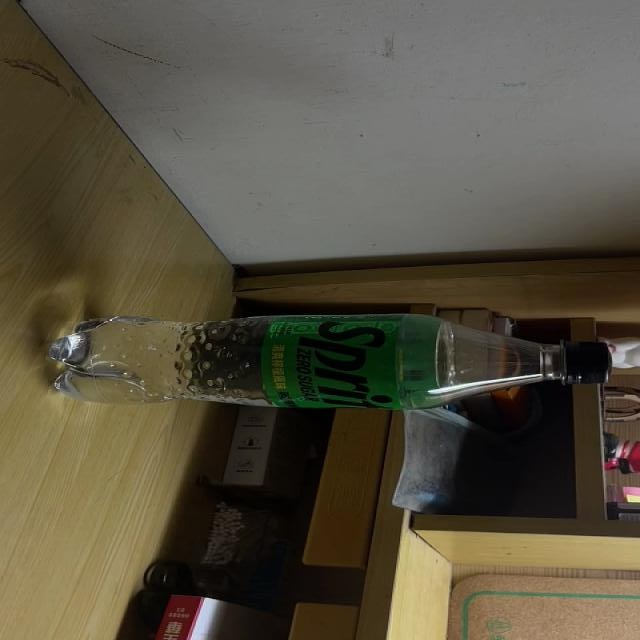Sprite: (41, 312, 612, 411)
